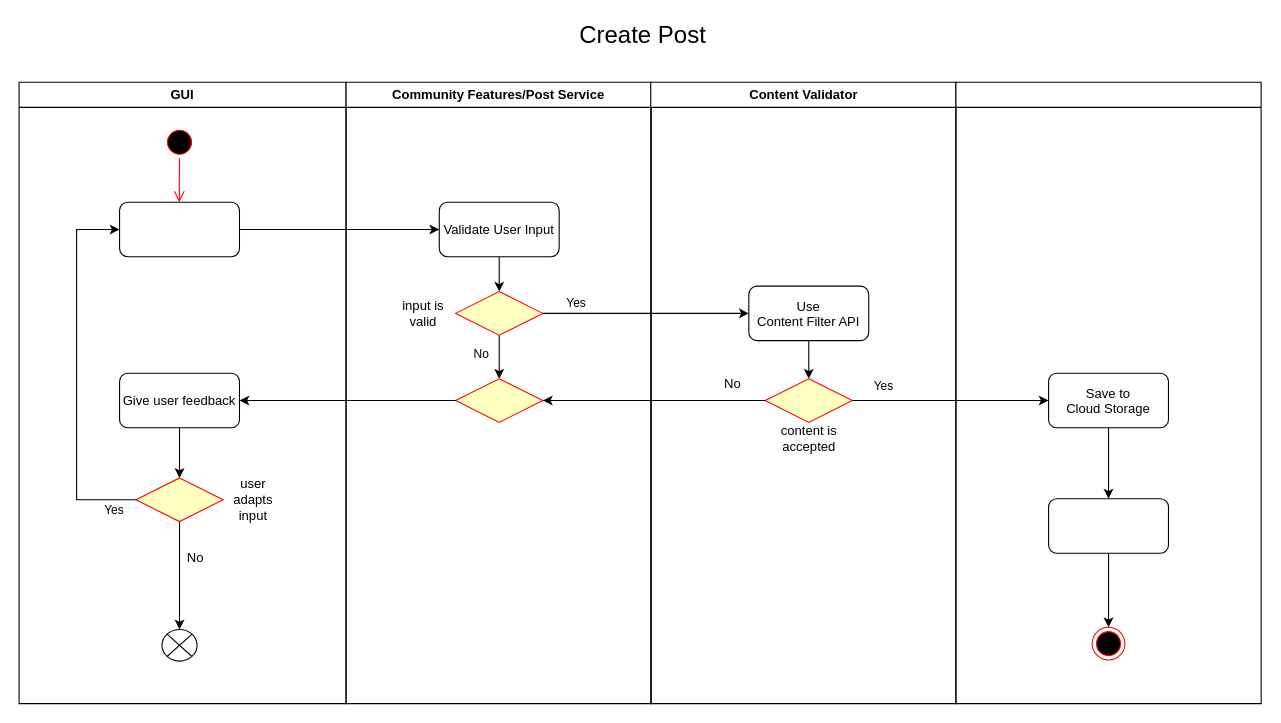
This 1281x723 diagram has some shape labels left out. The shapes that lost their labels are listed below. From the top down, each one's box as (x1, y1, x2, y2) in pixels, then its label:
(118, 201, 239, 257): Click on create button
(955, 81, 1261, 704): File Handling Service
(1047, 498, 1168, 553): Use Cloud Service API
